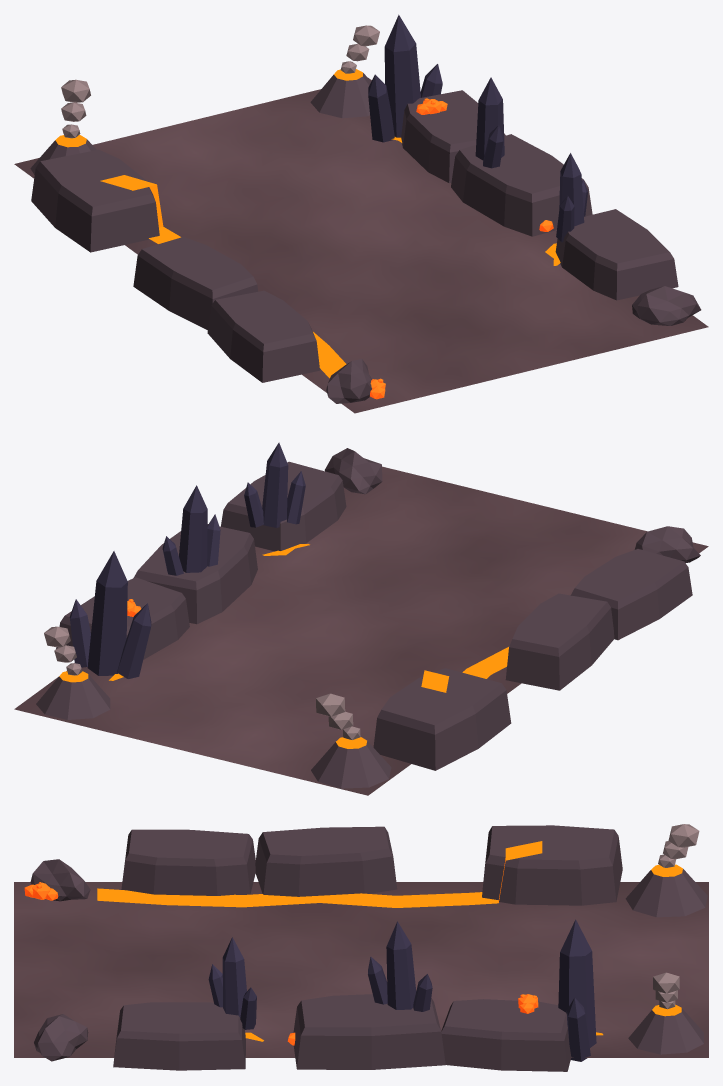
File: field-lava.glb
The picture shows the model from 3 angles, top to bottom: view 1: azimuth 30°, elevation 25°; view 2: azimuth 150°, elevation 25°; view 3: azimuth 270°, elevation 25°; orthographic projection.
Parts seen in each view (by area): view 1: Lava_Ground, Lava_Bank_L3, Lava_Bank_R2, Lava_Bank_R1, Lava_Bank_L1, Lava_Bank_L2, Lava_Bank_R3, Lava_Obsidian_R1, Lava_Volcano_R, Lava_Obsidian_R2, Lava_Rock_BR, Lava_Obsidian_R3 (+5 smaller); view 2: Lava_Ground, Lava_Bank_L3, Lava_Bank_L2, Lava_Bank_L1, Lava_Obsidian_R1, Lava_Bank_R2, Lava_Bank_R1, Lava_Bank_R3, Lava_Obsidian_R2, Lava_Obsidian_R3, Lava_Volcano_L, Lava_Volcano_R (+5 smaller); view 3: Lava_Ground, Lava_Bank_L3, Lava_Bank_R2, Lava_Bank_L2, Lava_Bank_R1, Lava_Bank_L1, Lava_Bank_R3, Lava_River, Lava_Obsidian_R1, Lava_Obsidian_R2, Lava_Volcano_L, Lava_Volcano_R (+6 smaller).
Boxes of the visible parts, x1=… form: Lava_Ground: x1=14, y1=78, x2=708, y2=413; Lava_Bank_L3: x1=31, y1=149, x2=159, y2=252; Lava_Bank_R2: x1=451, y1=134, x2=592, y2=236; Lava_Bank_R1: x1=555, y1=209, x2=678, y2=300; Lava_Bank_L1: x1=207, y1=290, x2=319, y2=382; Lava_Bank_L2: x1=133, y1=237, x2=258, y2=330; Lava_Bank_R3: x1=401, y1=90, x2=505, y2=183; Lava_Obsidian_R1: x1=368, y1=14, x2=442, y2=142; Lava_Volcano_R: x1=310, y1=69, x2=371, y2=118; Lava_Obsidian_R2: x1=475, y1=77, x2=504, y2=168; Lava_Rock_BR: x1=632, y1=286, x2=701, y2=325; Lava_Obsidian_R3: x1=556, y1=153, x2=587, y2=242; Lava_Ground: x1=14, y1=466, x2=708, y2=795; Lava_Bank_L3: x1=373, y1=668, x2=511, y2=770; Lava_Bank_L2: x1=505, y1=593, x2=614, y2=690; Lava_Bank_L1: x1=570, y1=549, x2=692, y2=640; Lava_Obsidian_R1: x1=69, y1=551, x2=151, y2=678; Lava_Bank_R2: x1=133, y1=524, x2=257, y2=624; Lava_Bank_R1: x1=221, y1=461, x2=346, y2=551; Lava_Bank_R3: x1=56, y1=577, x2=189, y2=659; Lava_Obsidian_R2: x1=162, y1=485, x2=220, y2=575; Lava_Obsidian_R3: x1=244, y1=442, x2=305, y2=527; Lava_Volcano_L: x1=311, y1=737, x2=391, y2=788; Lava_Volcano_R: x1=36, y1=671, x2=110, y2=719; Lava_Ground: x1=14, y1=882, x2=708, y2=1057; Lava_Bank_L3: x1=482, y1=825, x2=622, y2=905; Lava_Bank_R2: x1=293, y1=994, x2=445, y2=1069; Lava_Bank_L2: x1=255, y1=826, x2=397, y2=896; Lava_Bank_R1: x1=113, y1=1002, x2=245, y2=1070; Lava_Bank_L1: x1=121, y1=829, x2=255, y2=895; Lava_Bank_R3: x1=441, y1=999, x2=571, y2=1071; Lava_River: x1=97, y1=841, x2=542, y2=907; Lava_Obsidian_R1: x1=558, y1=919, x2=596, y2=1061; Lava_Obsidian_R2: x1=368, y1=921, x2=432, y2=1011; Lava_Volcano_L: x1=625, y1=864, x2=707, y2=917; Lava_Volcano_R: x1=628, y1=1004, x2=703, y2=1054.
Bounding box in the file's own units: 14.23 × 4.01 × 20.
